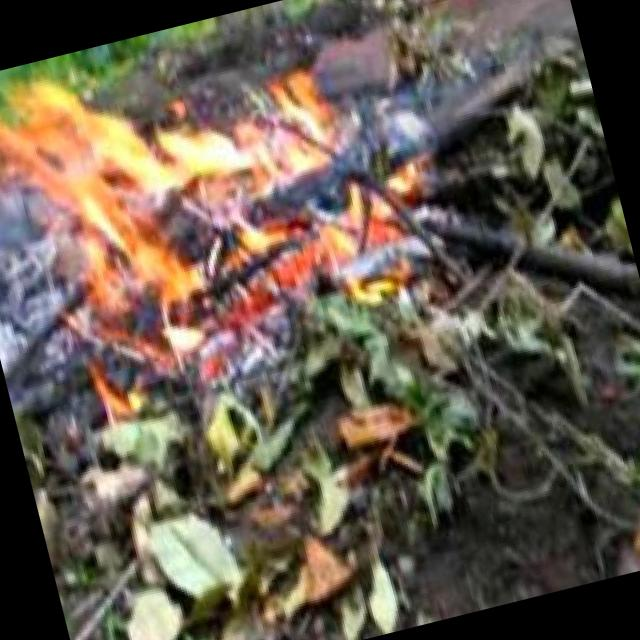Fire: (0, 0, 445, 371)
